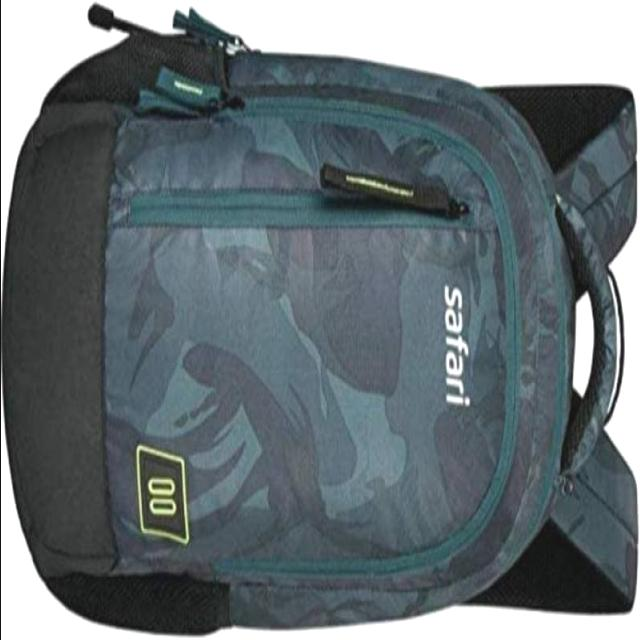backpack: (3, 4, 640, 638)
